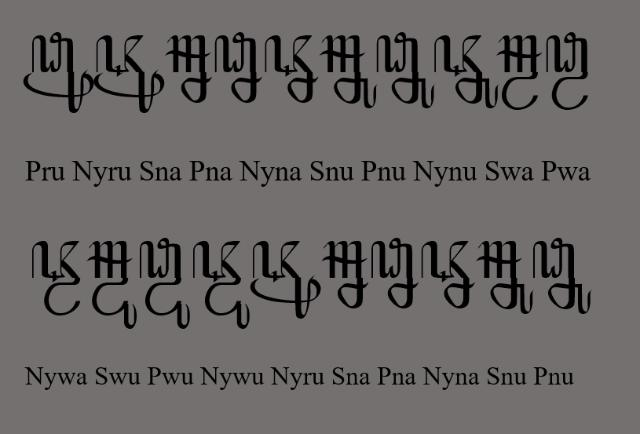Nyn: (265, 34, 319, 104), (422, 240, 476, 310)
Nynu: (432, 34, 500, 110)
Nyru: (94, 34, 166, 114), (250, 241, 322, 321)
Nyw: (31, 240, 80, 316)
Nywu: (192, 240, 250, 330)
Pn: (214, 31, 262, 103), (372, 237, 418, 310)
Pnu: (376, 31, 436, 109), (534, 237, 592, 316)
Pru: (24, 31, 94, 114)
Pw: (546, 31, 590, 111)
Pwu: (138, 237, 190, 331)
Sn: (321, 240, 369, 310), (165, 34, 212, 104)
Snu: (320, 34, 378, 110), (476, 240, 534, 314)
Sw: (496, 34, 544, 110)
Swu: (87, 240, 137, 328)
